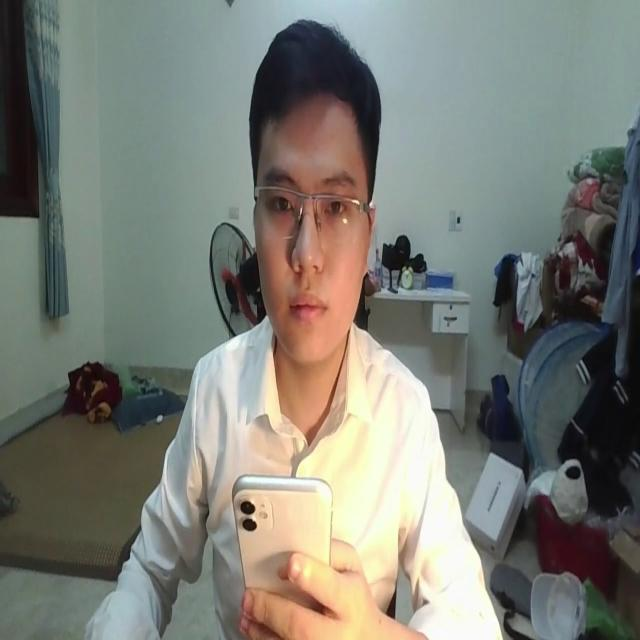phone: (231, 466, 333, 598)
student: (88, 22, 499, 640)
